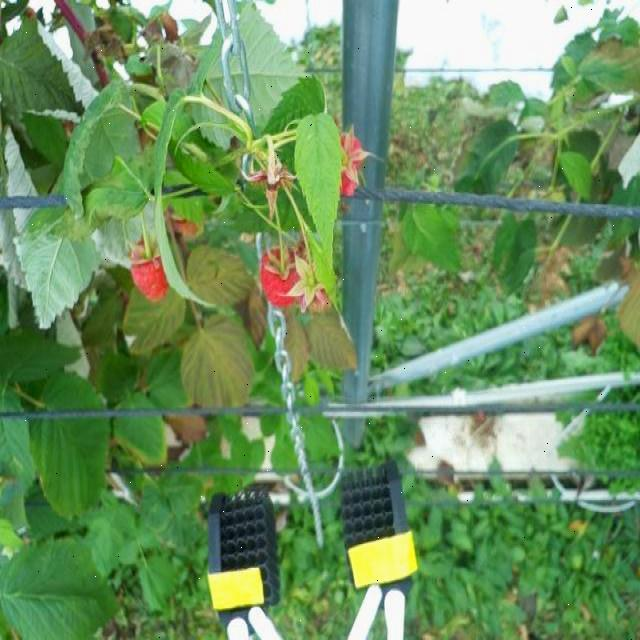Riped berries: (251, 244, 300, 308), (127, 240, 175, 304), (302, 240, 342, 308), (335, 132, 375, 192)
